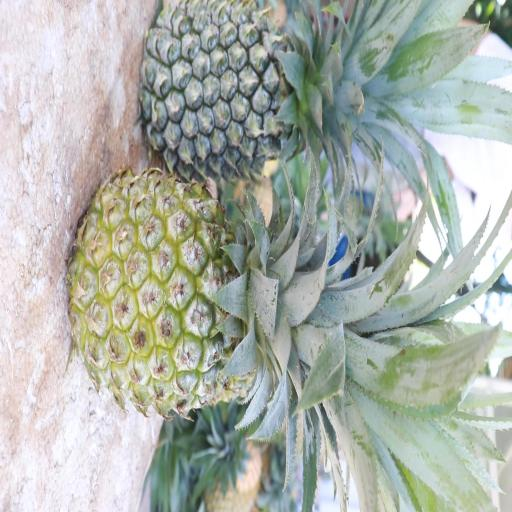------------------------------: (62, 165, 357, 422)
